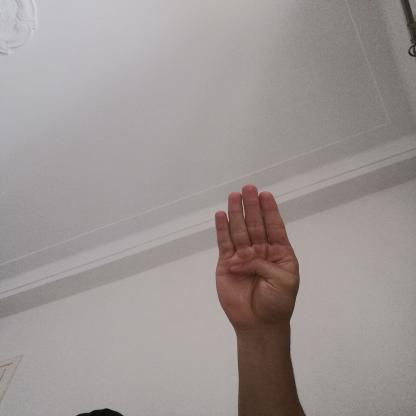KAAF: (196, 174, 315, 342)
